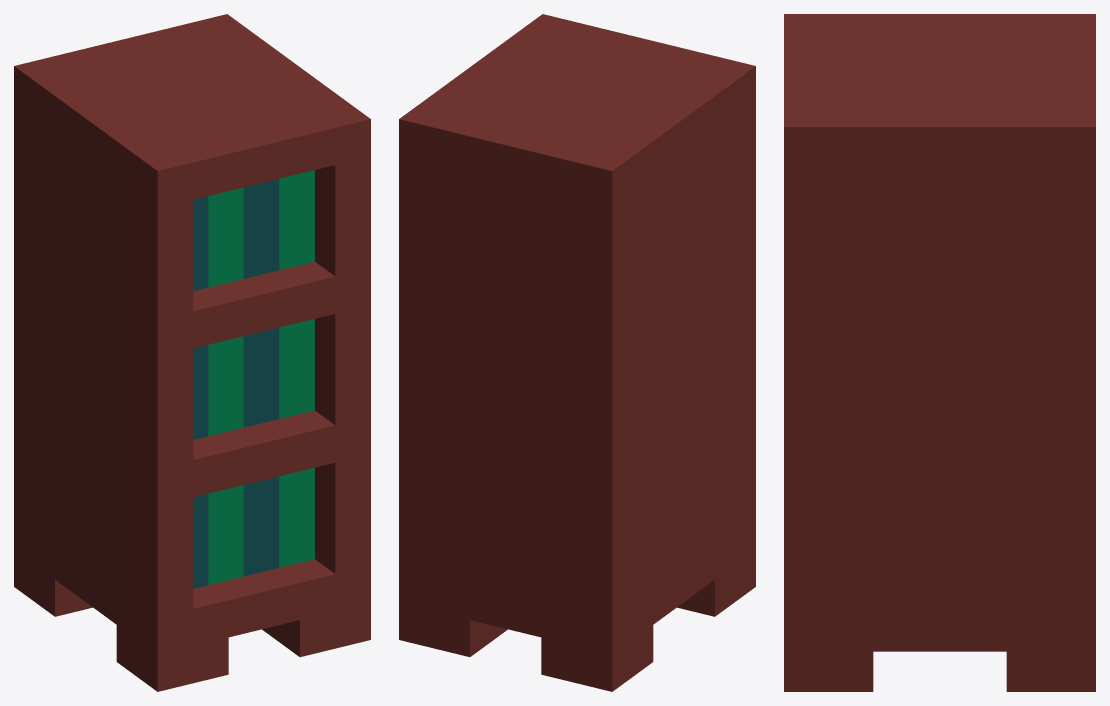
Rendered from small_bookcase_b_green.obj.
3 renders of one model, left to right at view 1: azimuth 30°, elevation 25°; view 2: azimuth 150°, elevation 25°; view 3: azimuth 270°, elevation 25°, orthographic. The views are drawn at different scales.
Size of the model in its own units: 0.6 by 1.4 by 0.7.
1 material, 1 textured.
